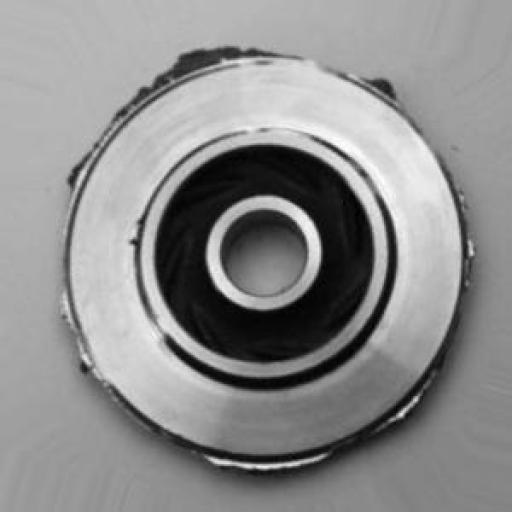defect: (44, 28, 484, 496)
